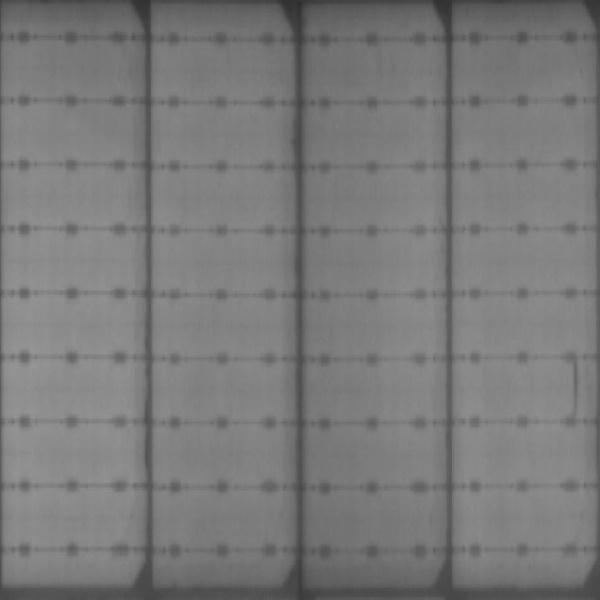scratch: (564, 359, 583, 423)
